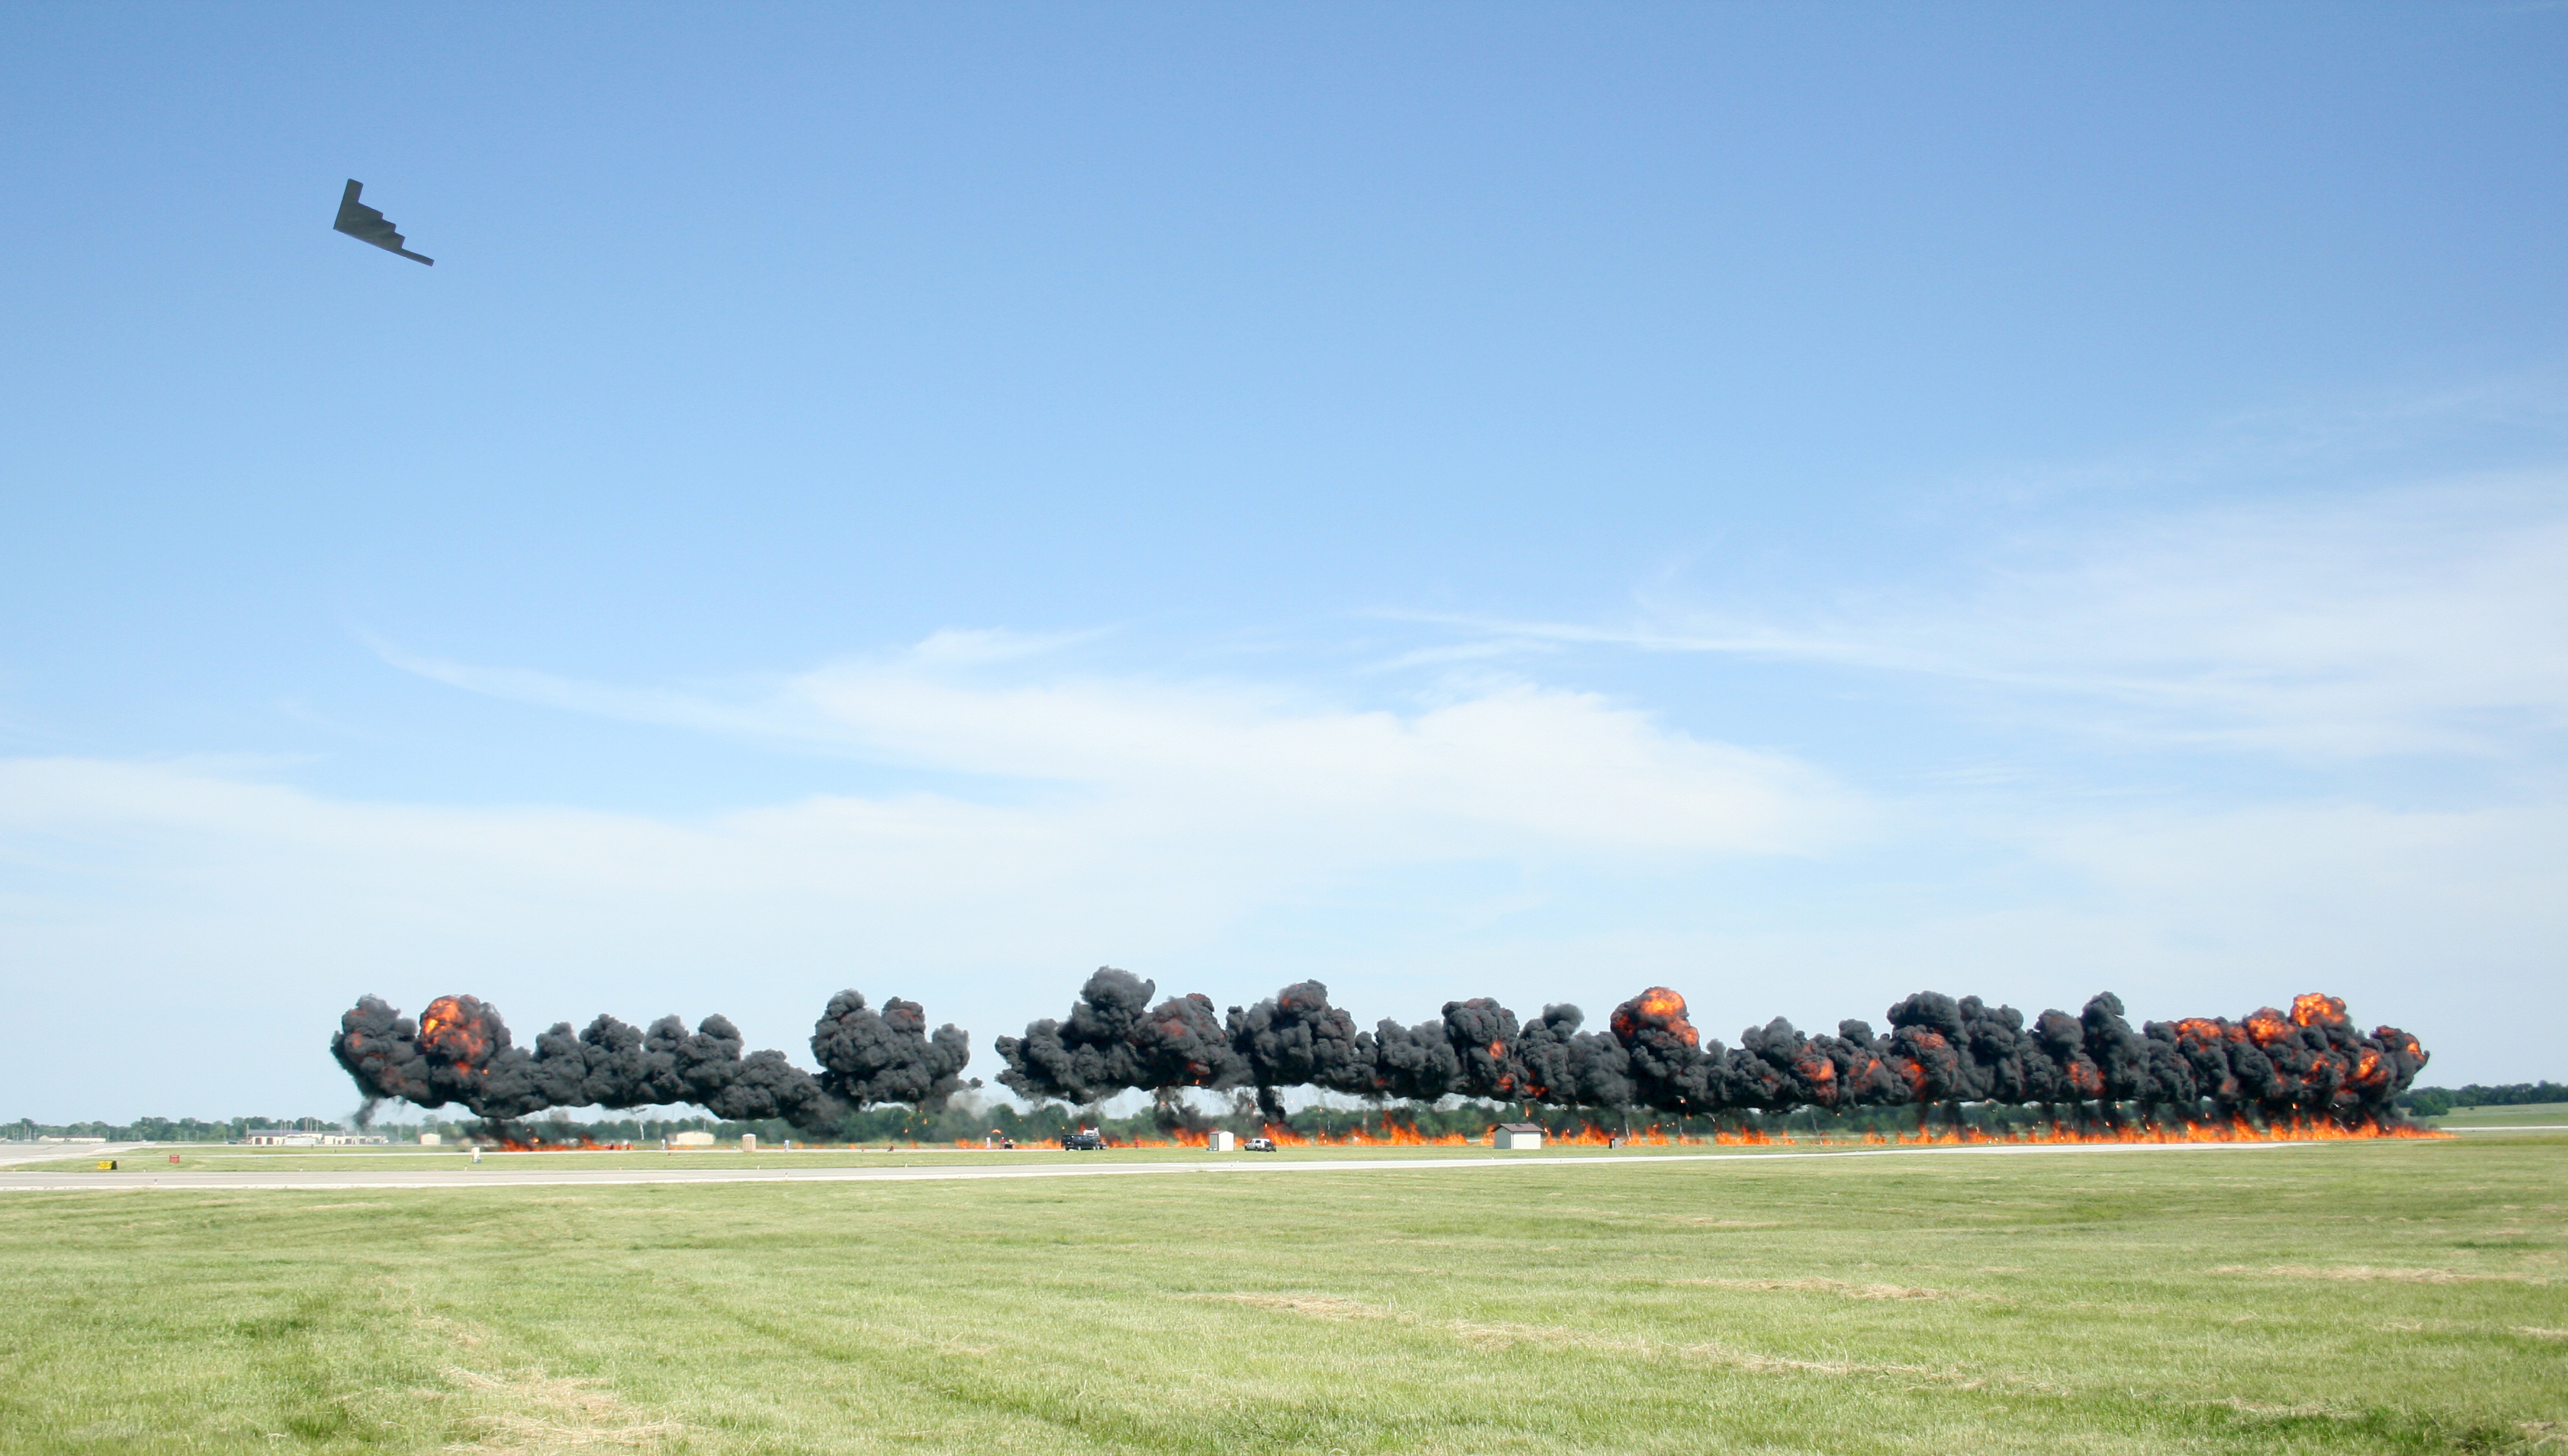B2: (332, 178, 434, 266)
